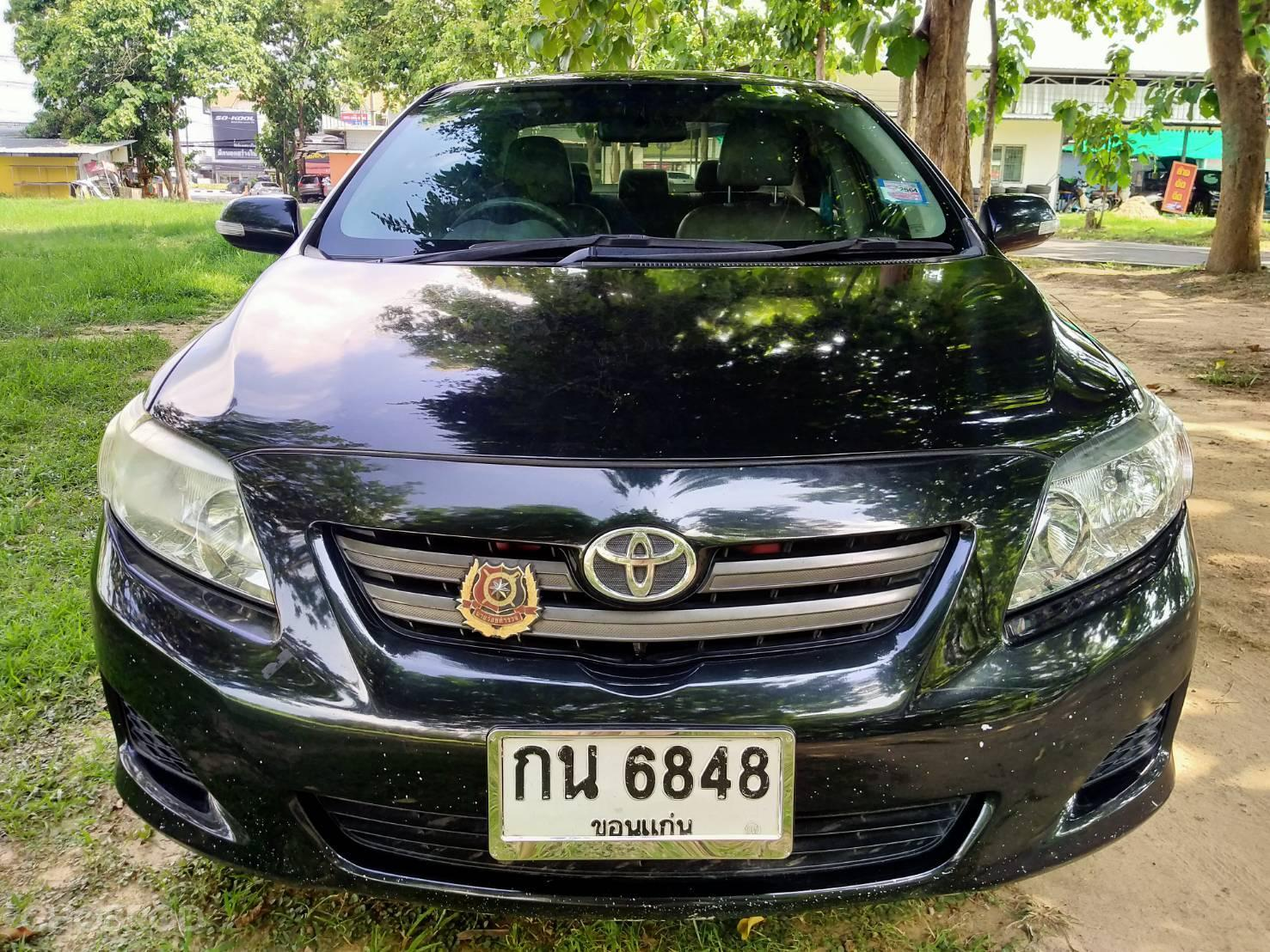license-plate: (485, 725, 797, 864)
